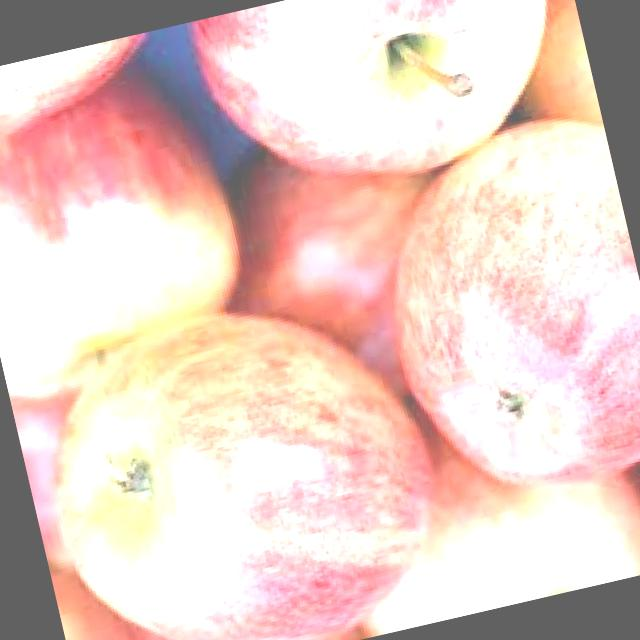Apple: (20, 273, 467, 640), (355, 105, 640, 519), (0, 54, 266, 404), (189, 0, 588, 219), (215, 112, 482, 428), (327, 390, 640, 635)
